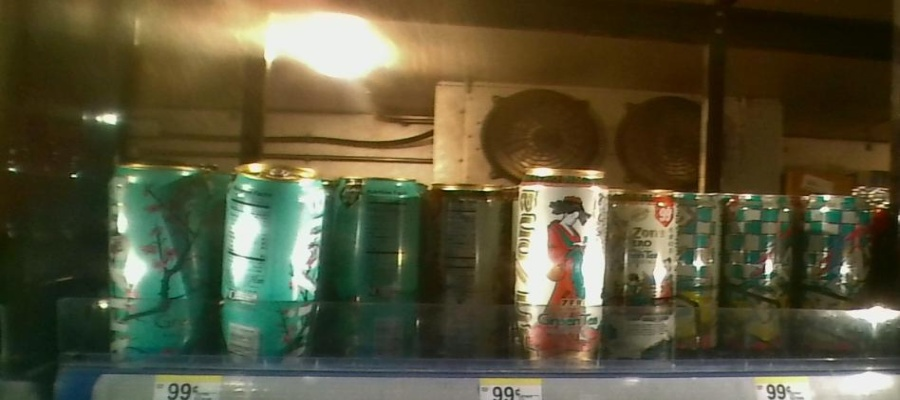bottle: (100, 158, 213, 362), (220, 158, 325, 367), (516, 164, 608, 369), (332, 169, 422, 362), (428, 170, 507, 356), (801, 189, 871, 373), (609, 181, 674, 369), (726, 191, 796, 363), (676, 182, 722, 369)
